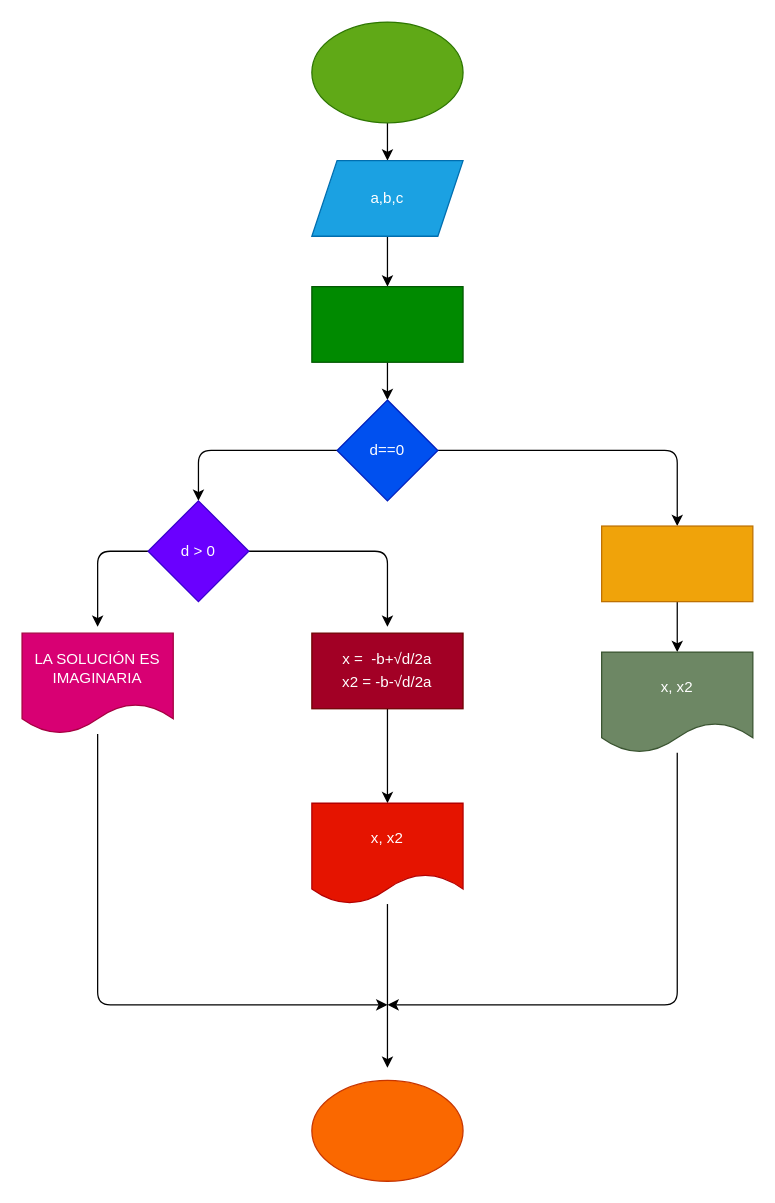
This 775x1203 diagram has some shape labels left out. Here are the shapes that lost their labels. From the top down, the centre of each, then its label:
At (x=387, y=72): "INICIO".
At (x=387, y=323): "d = b**2-4ac".
At (x=676, y=563): "x = -b/2a x2 = x".
At (x=387, y=1130): "FIN".
